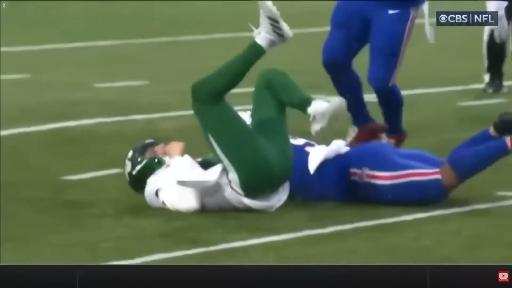Helmet: (124, 140, 165, 193)
Jersey: (145, 155, 289, 212), (290, 138, 354, 201)
Player: (125, 2, 343, 211), (290, 111, 511, 205), (323, 0, 427, 146), (484, 1, 511, 93)
